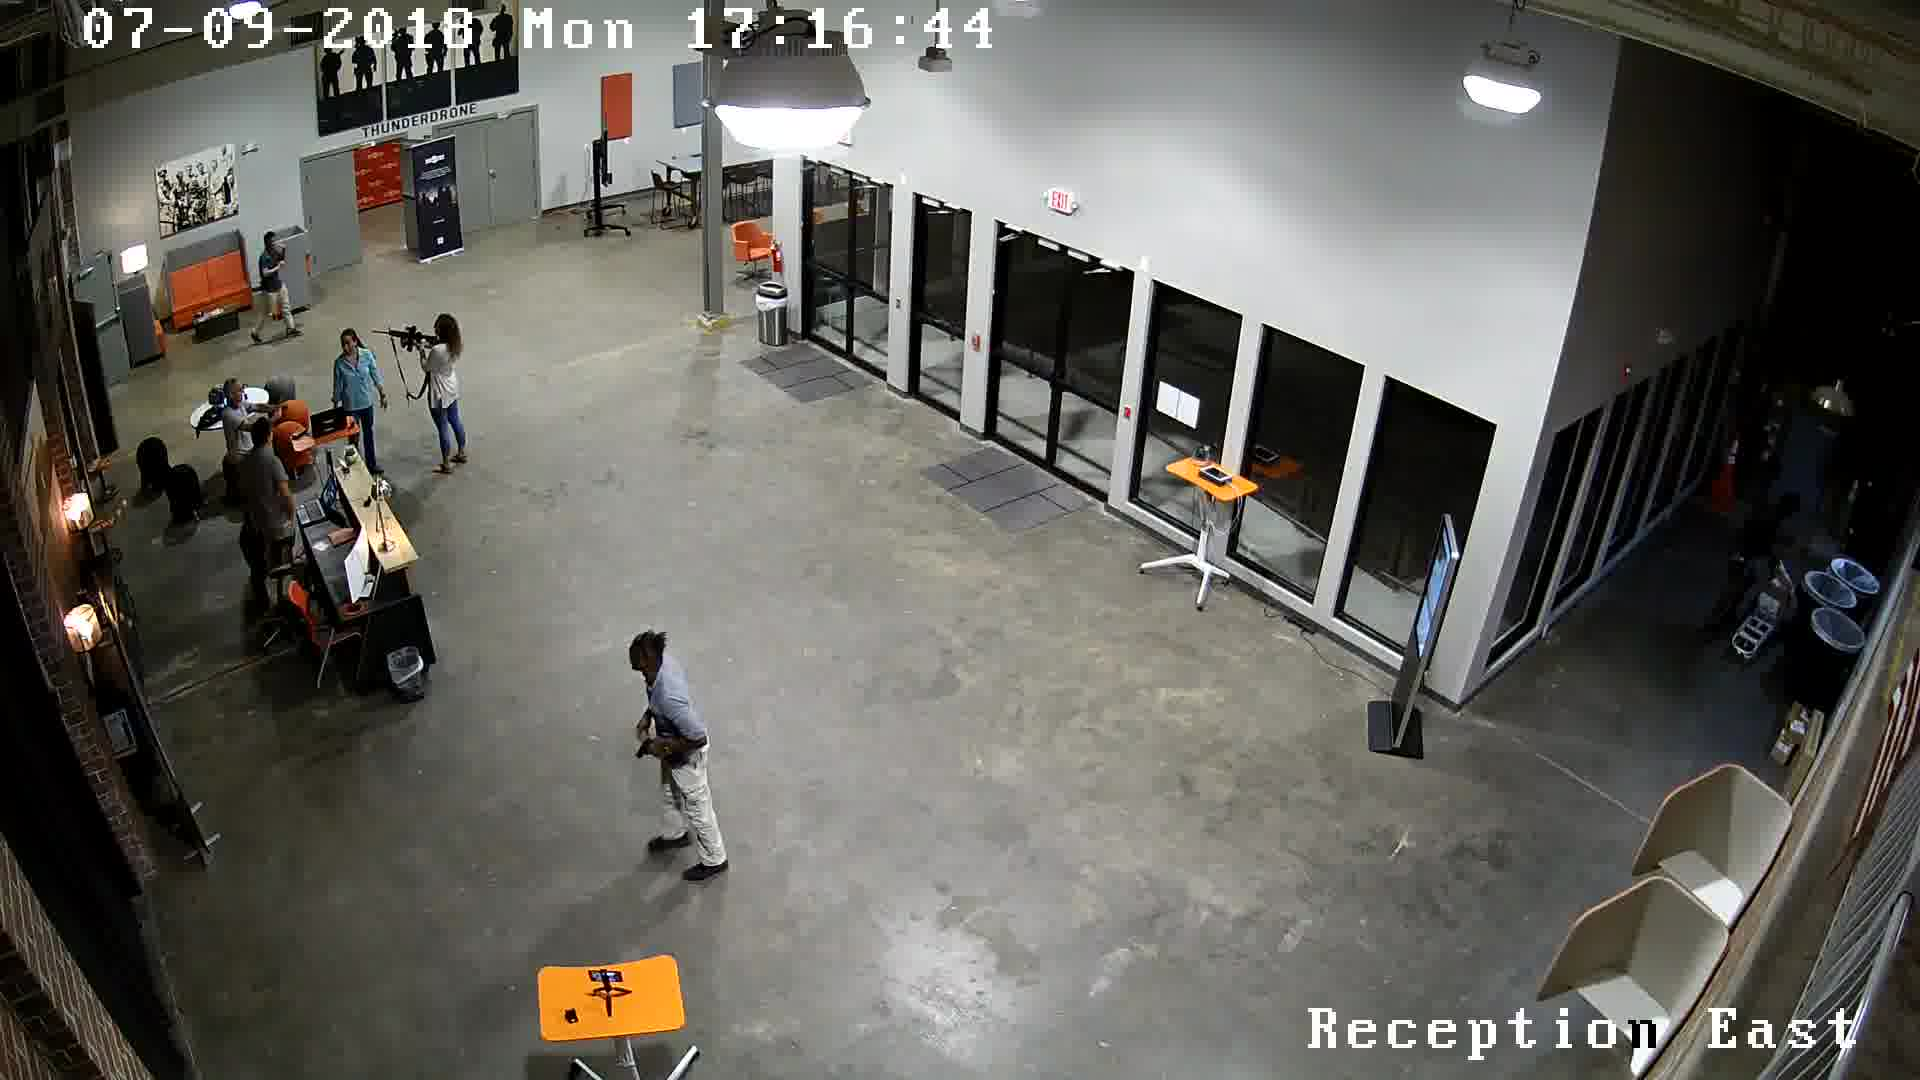pistol: (632, 735, 688, 793)
